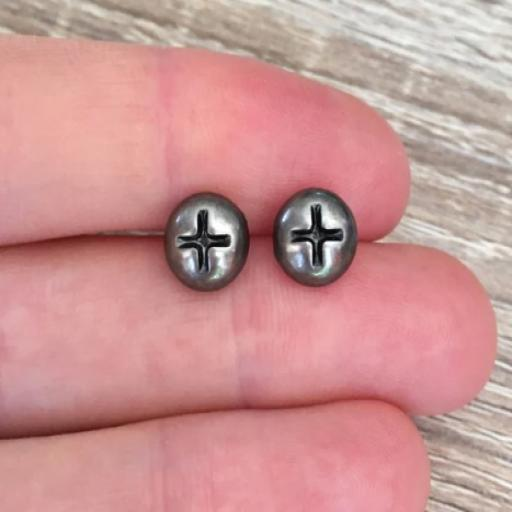Phillips: (270, 186, 359, 288), (166, 190, 250, 291)
